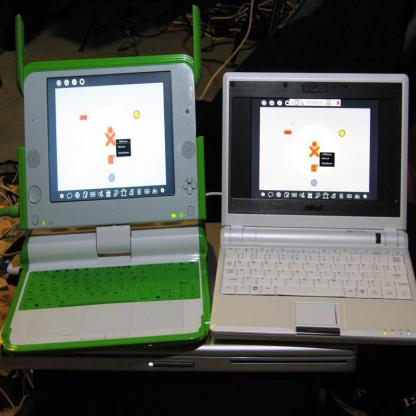board: (1, 2, 212, 351), (209, 70, 416, 344)
